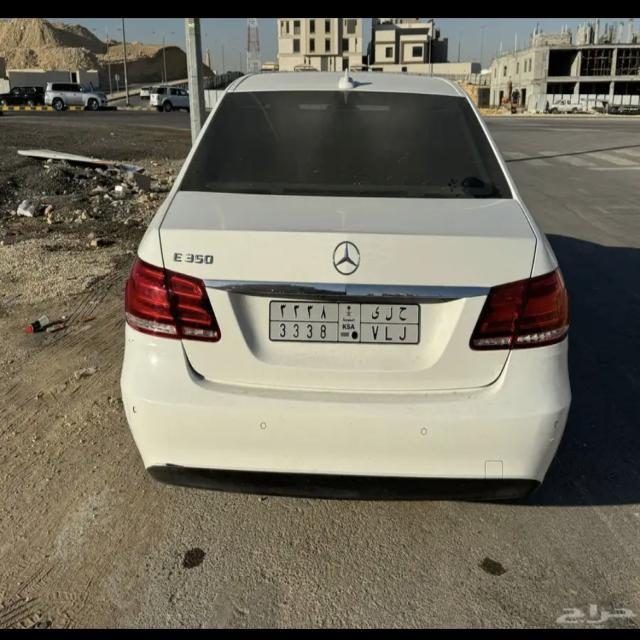license_plate: (269, 298, 422, 343)
